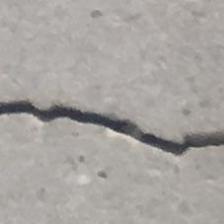Crack: (0, 78, 224, 172)
